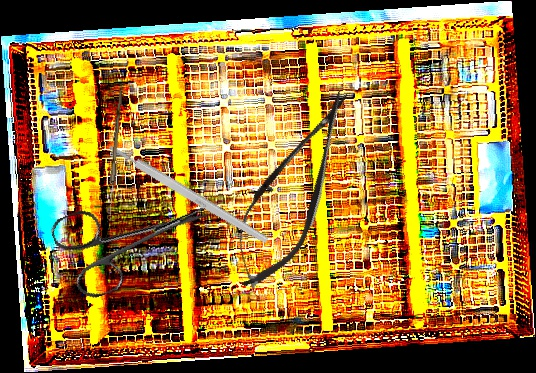Iris Scissors: (47, 166, 227, 305)
Micro Scissor: (213, 76, 374, 302)
Scalpel Handle: (107, 141, 270, 246)
Surgical Spoon: (107, 91, 123, 217)
